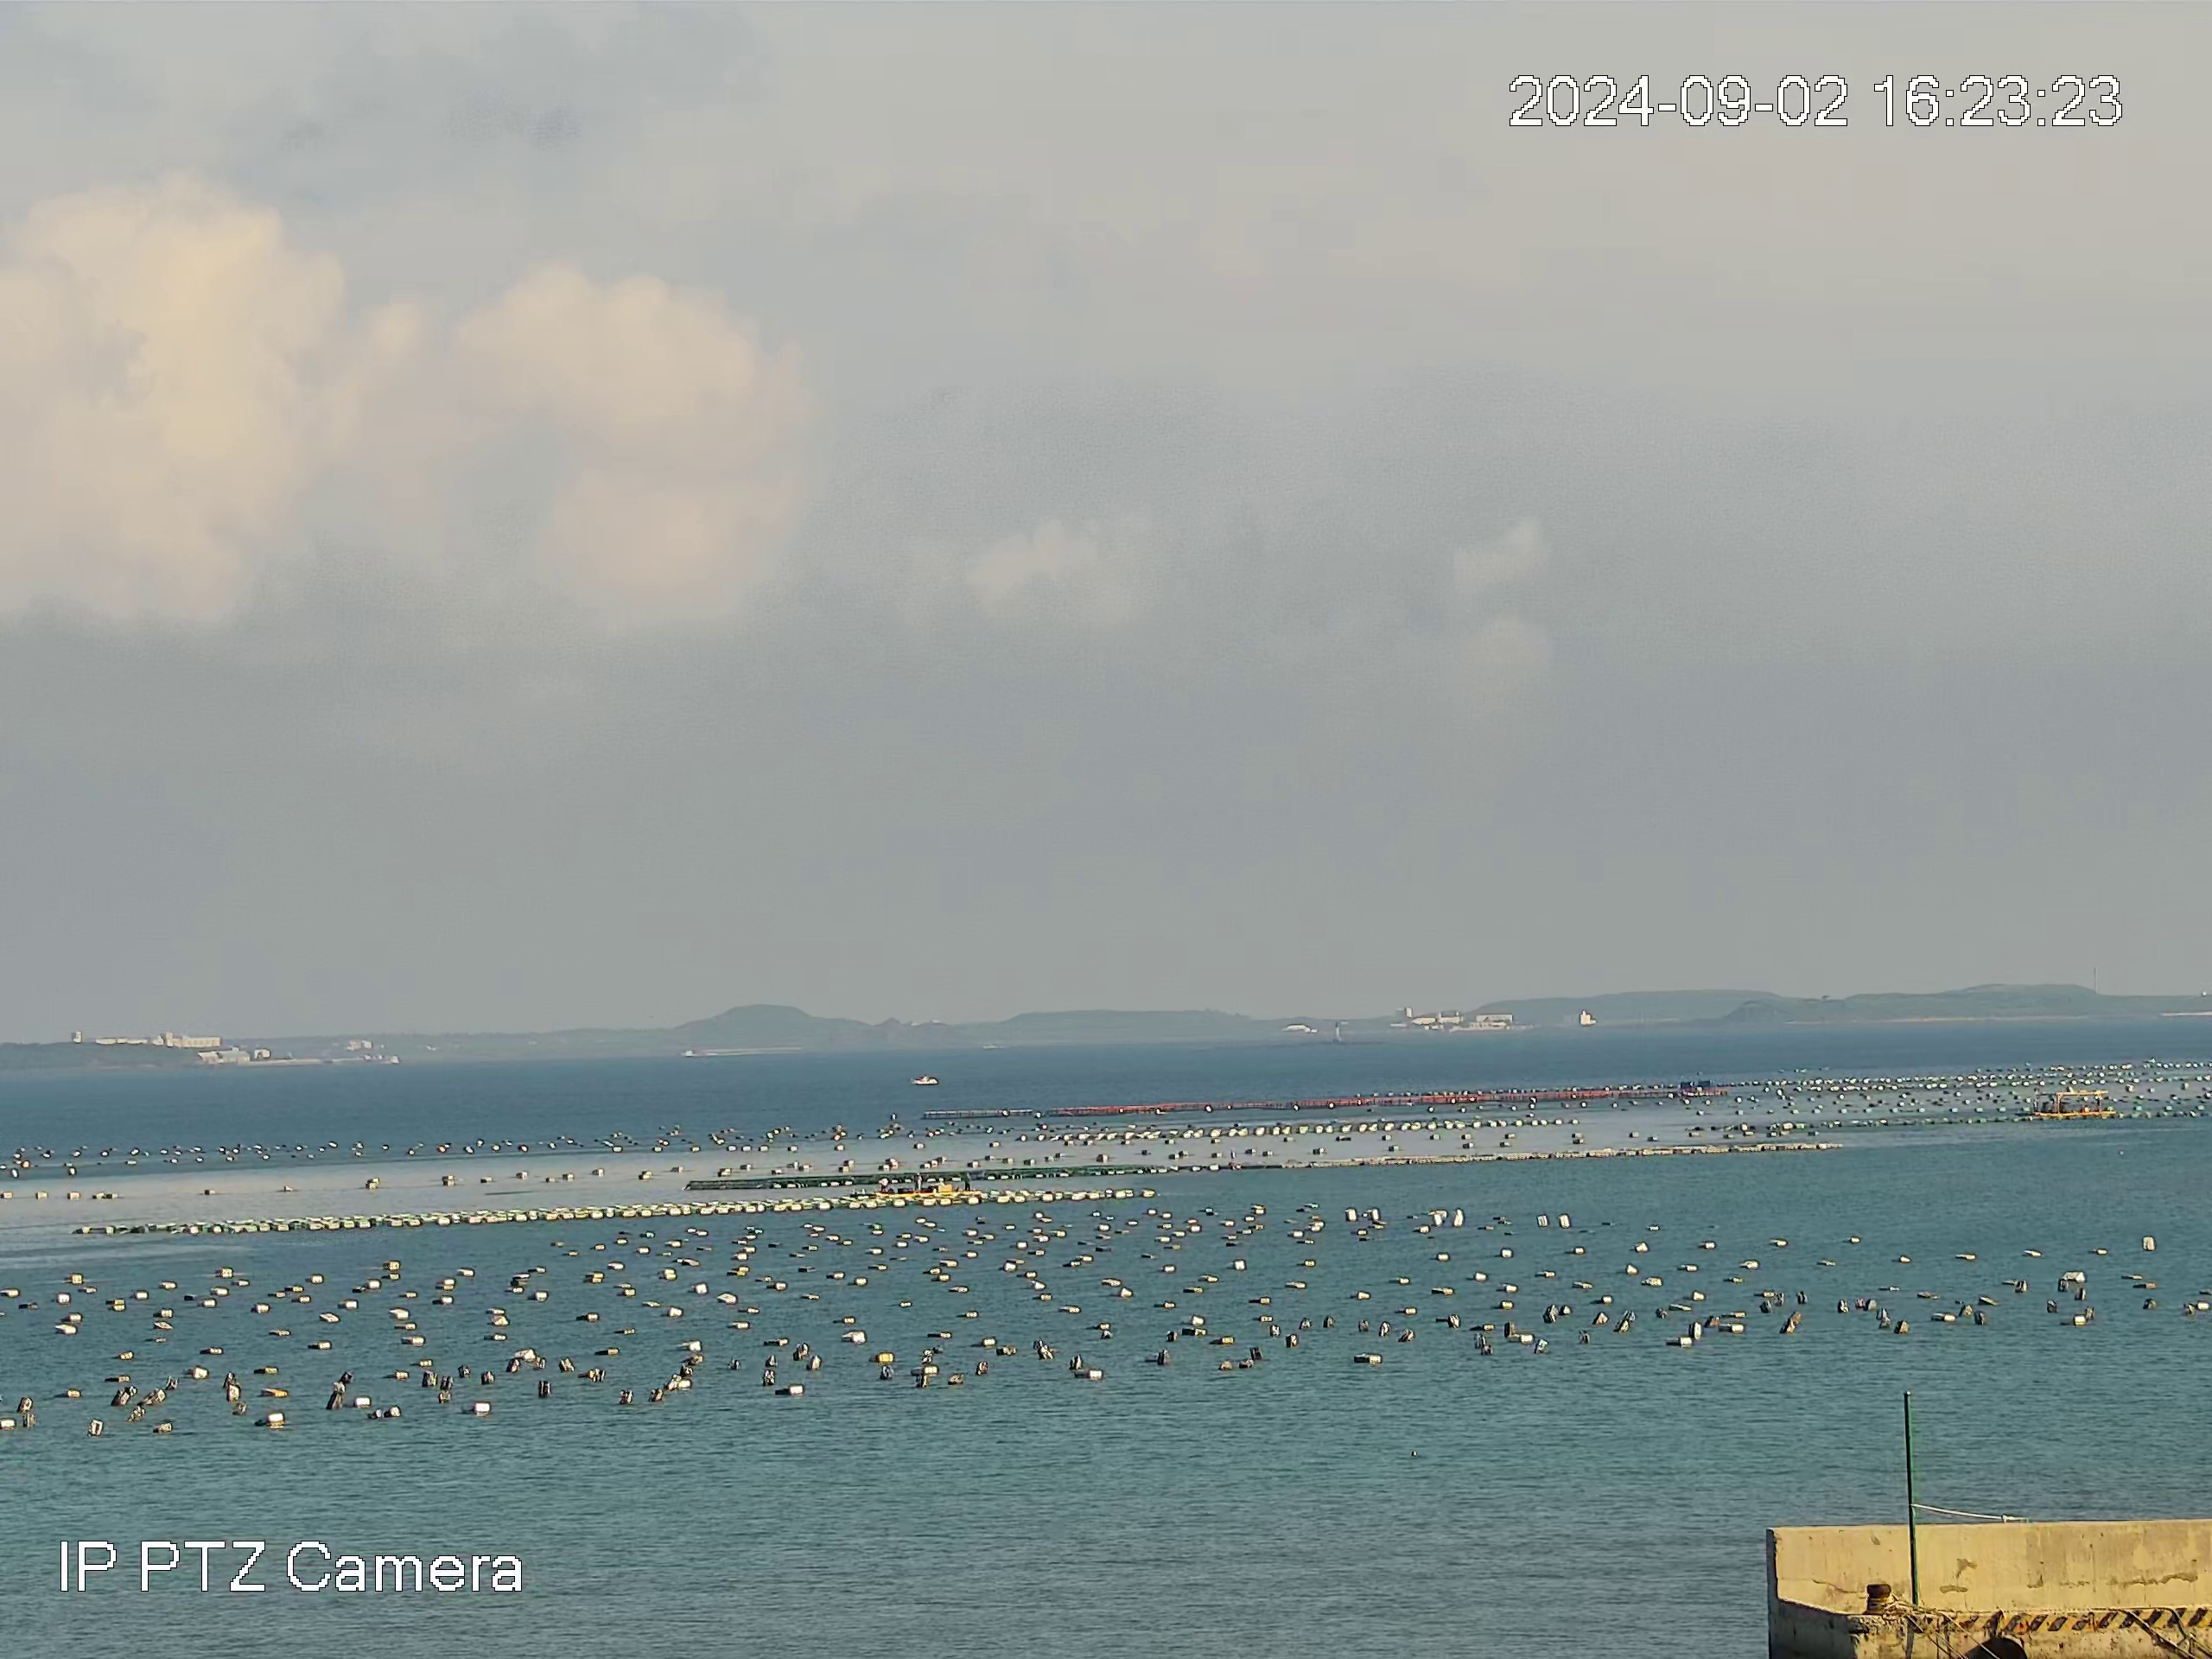boat: (873, 1171, 982, 1199), (2031, 1087, 2116, 1121), (909, 1072, 939, 1087)
